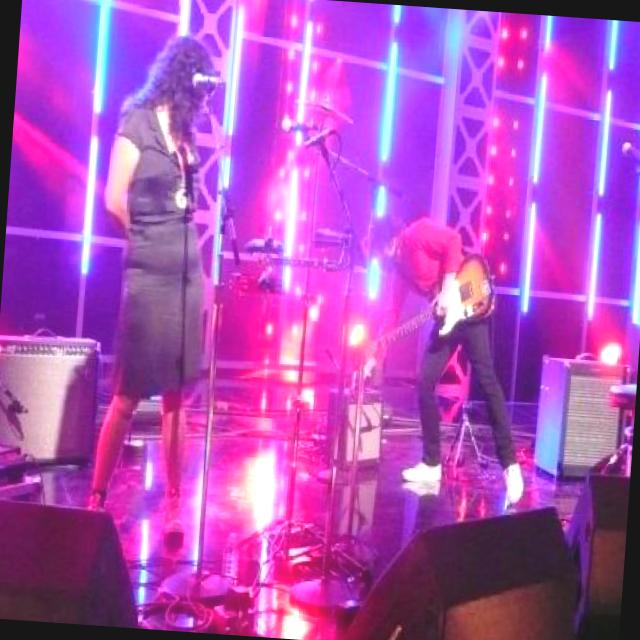Person: (74, 11, 235, 554), (342, 210, 541, 506)
